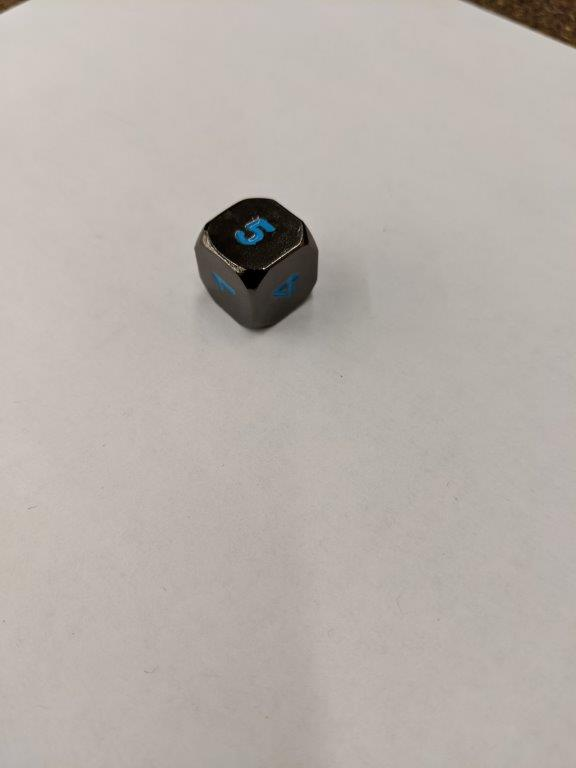d6-5: (192, 196, 319, 331)
